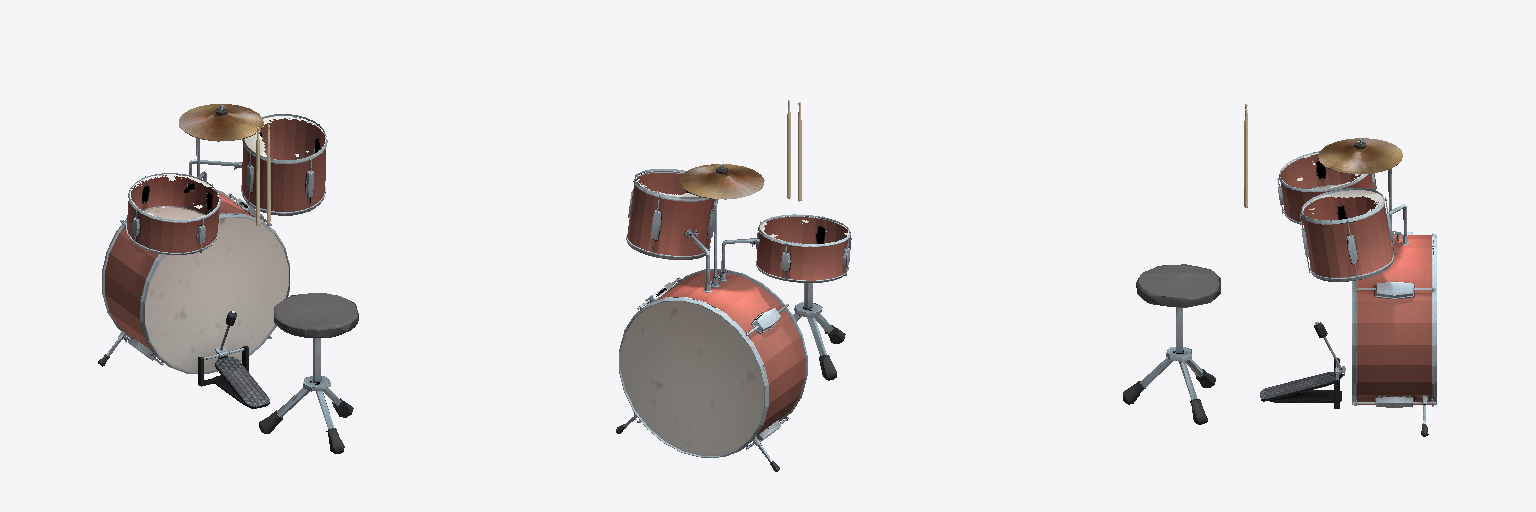
The picture shows the model from 3 angles: view 1: azimuth 30°, elevation 25°; view 2: azimuth 150°, elevation 25°; view 3: azimuth 270°, elevation 25°; orthographic projection.
Visible parts, largest first — view 1: drum-set_drum.tex_0_drum-set_drum.tex_0_drum.tex, drum-stool_drum.tex_0_drum-stool_drum.tex_0_drum.tex, drum-hihat_drum.tex_0_drum-hihat_drum.tex_0_drum.tex, drum-pedal_drum.tex_0_drum-pedal_drum.tex_0_drum.tex; view 2: drum-set_drum.tex_0_drum-set_drum.tex_0_drum.tex, drum-hihat_drum.tex_0_drum-hihat_drum.tex_0_drum.tex, drum-stool_drum.tex_0_drum-stool_drum.tex_0_drum.tex; view 3: drum-set_drum.tex_0_drum-set_drum.tex_0_drum.tex, drum-stool_drum.tex_0_drum-stool_drum.tex_0_drum.tex, drum-hihat_drum.tex_0_drum-hihat_drum.tex_0_drum.tex, drum-pedal_drum.tex_0_drum-pedal_drum.tex_0_drum.tex.
Part boxes in pixels (x1,y1,x2,y2): drum-set_drum.tex_0_drum-set_drum.tex_0_drum.tex: (98,105,327,373); drum-stool_drum.tex_0_drum-stool_drum.tex_0_drum.tex: (259,293,358,453); drum-hihat_drum.tex_0_drum-hihat_drum.tex_0_drum.tex: (179,104,263,141); drum-pedal_drum.tex_0_drum-pedal_drum.tex_0_drum.tex: (198,311,269,408); drum-set_drum.tex_0_drum-set_drum.tex_0_drum.tex: (616,164,850,471); drum-hihat_drum.tex_0_drum-hihat_drum.tex_0_drum.tex: (680,164,764,199); drum-stool_drum.tex_0_drum-stool_drum.tex_0_drum.tex: (793,235,851,380); drum-set_drum.tex_0_drum-set_drum.tex_0_drum.tex: (1277,139,1436,436); drum-stool_drum.tex_0_drum-stool_drum.tex_0_drum.tex: (1123,264,1220,424); drum-hihat_drum.tex_0_drum-hihat_drum.tex_0_drum.tex: (1318,138,1402,174); drum-pedal_drum.tex_0_drum-pedal_drum.tex_0_drum.tex: (1260,321,1345,408).
Bounding box in the file's own units: 1.23 × 1.68 × 1.65.
2 materials, 2 textured.